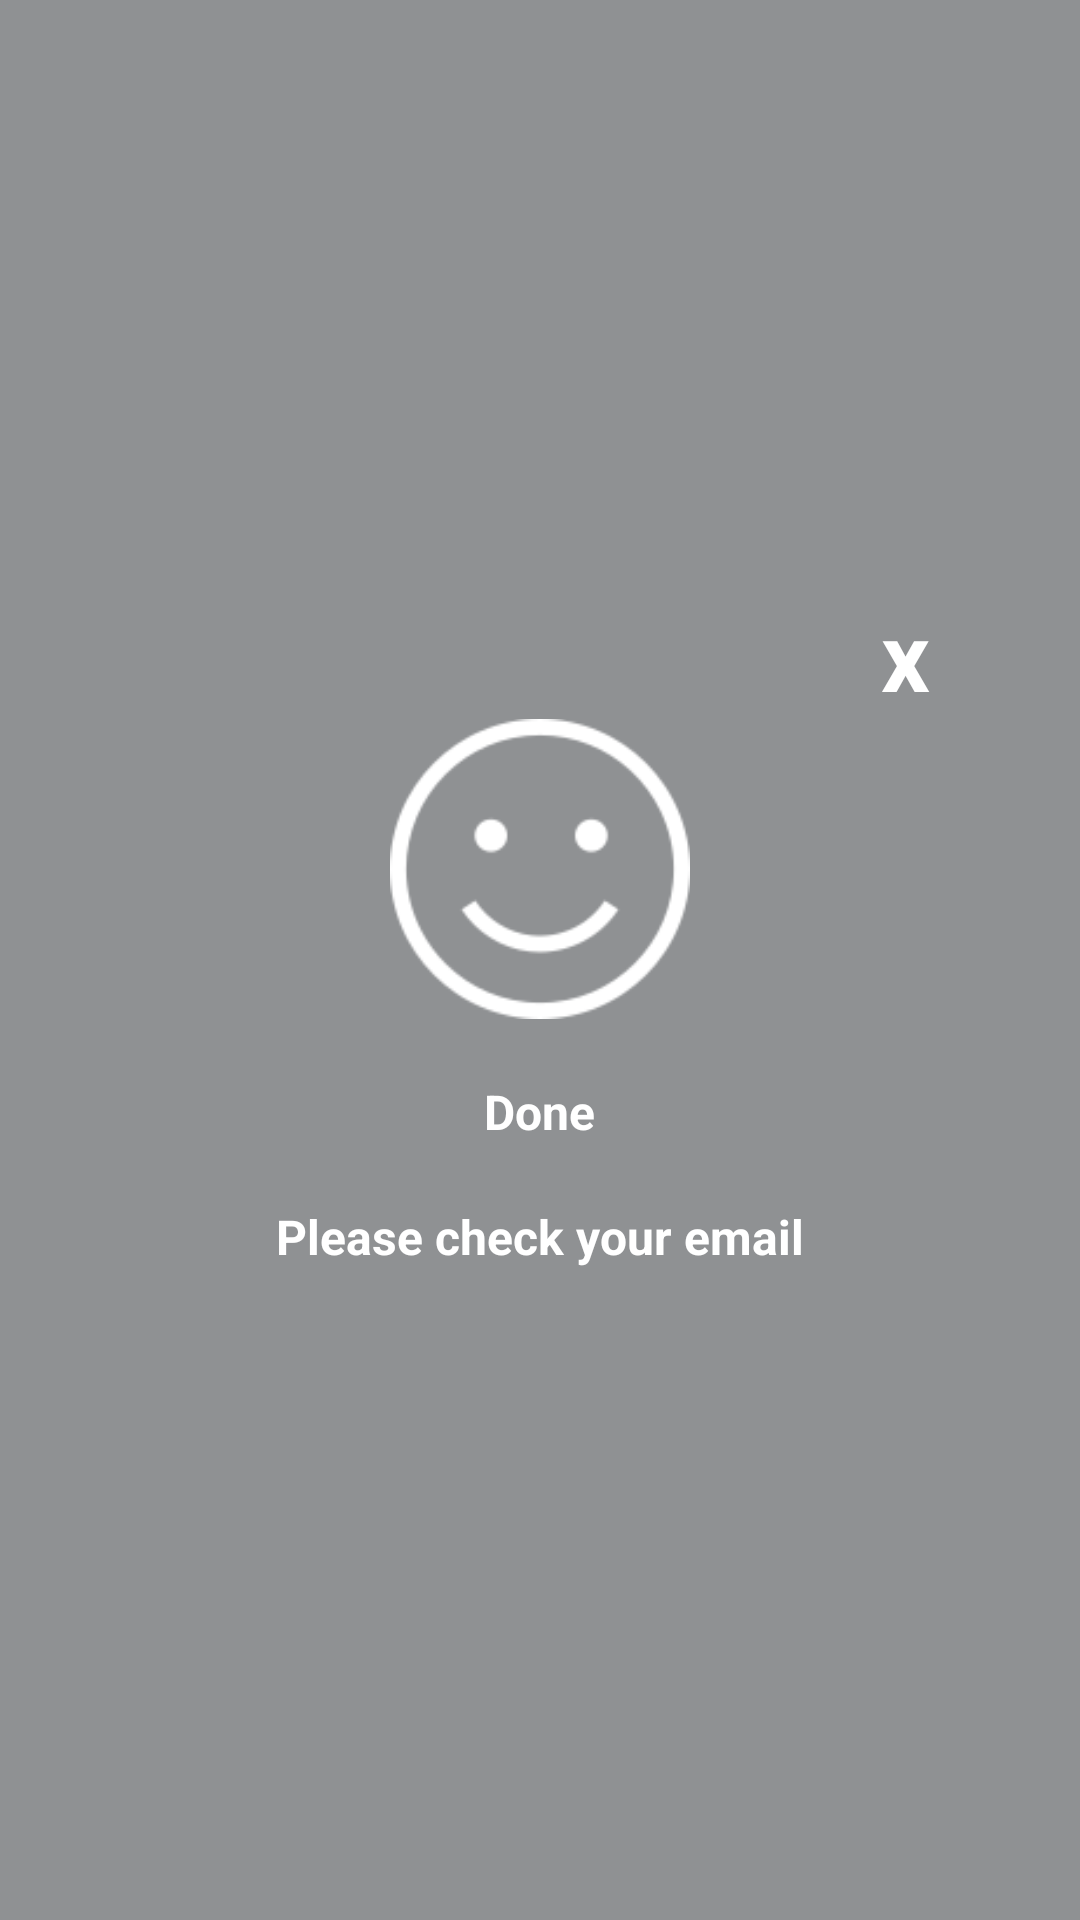

Named icons in this screenshot (1080 x 1920) and their centers, (x,y):
happiness: (540,869)
